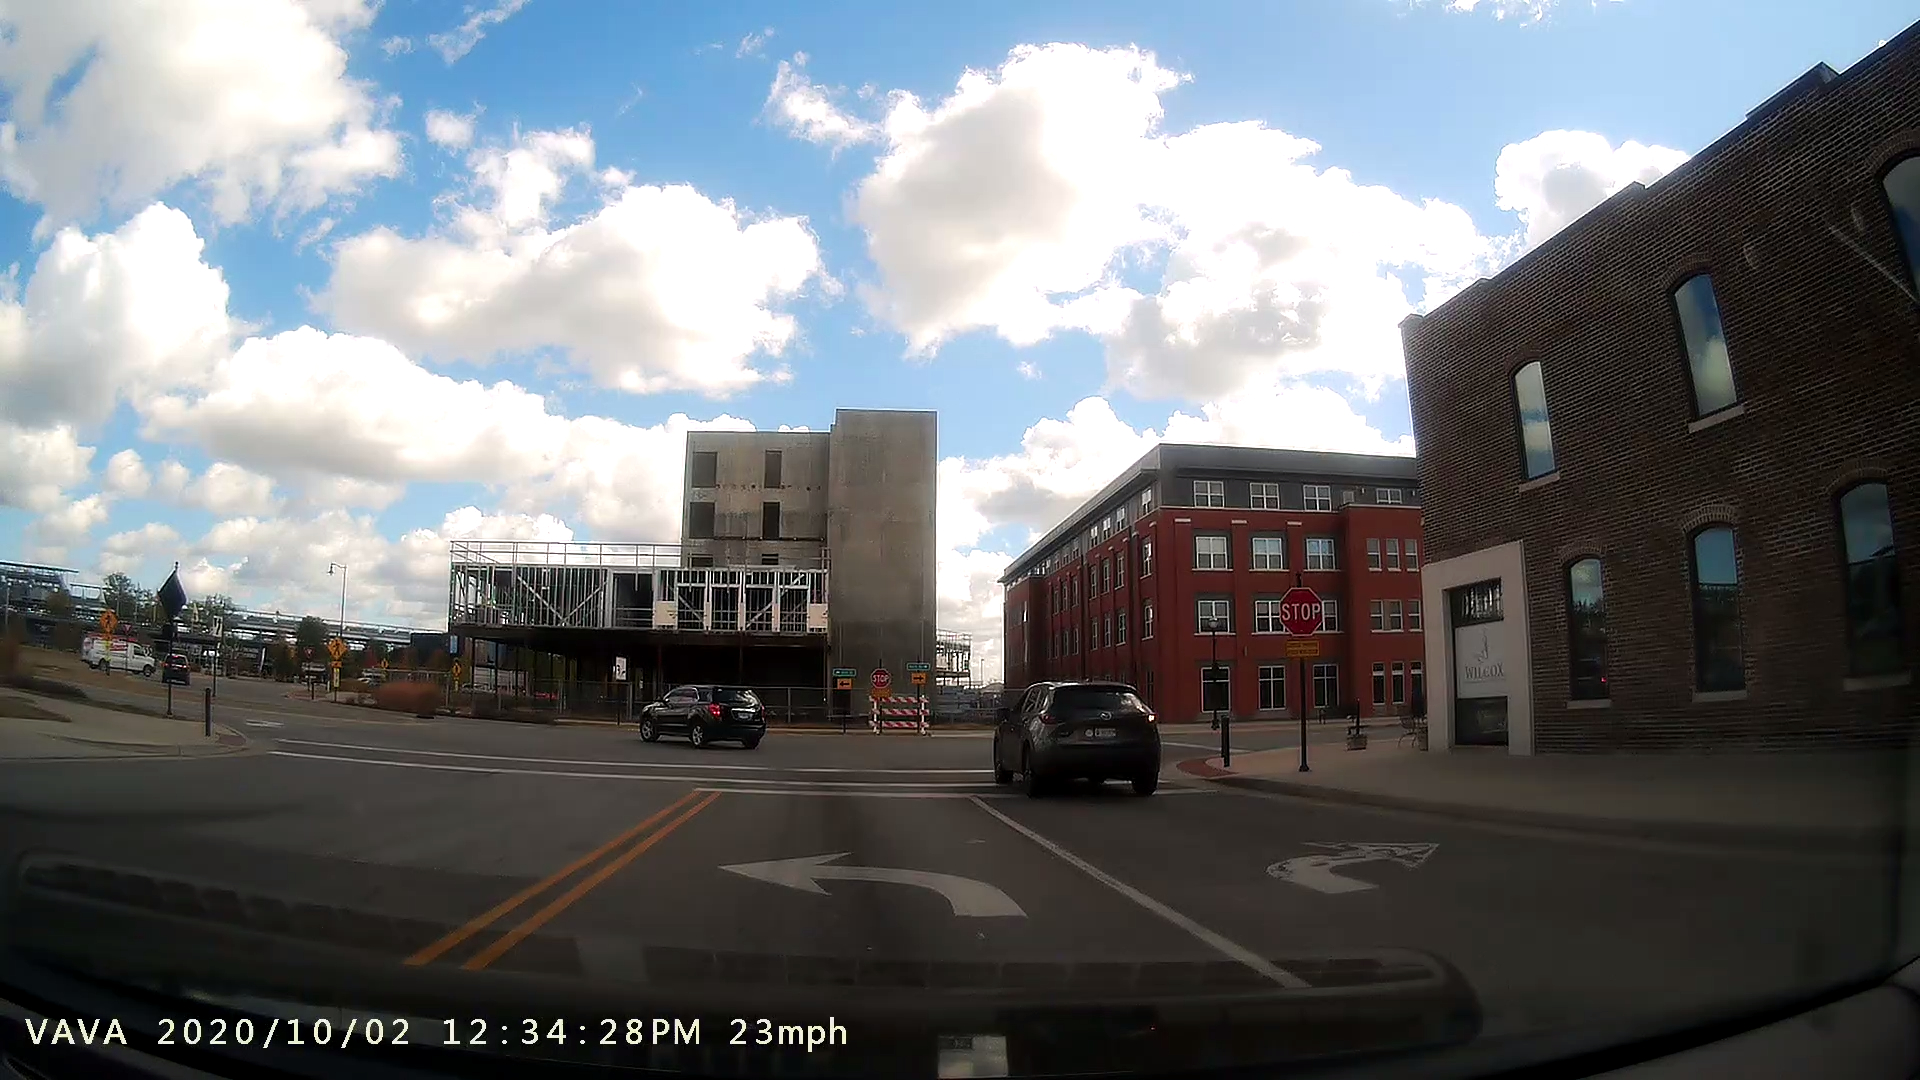left_turn: (711, 814, 1033, 930)
right_turn: (1259, 808, 1464, 913)
